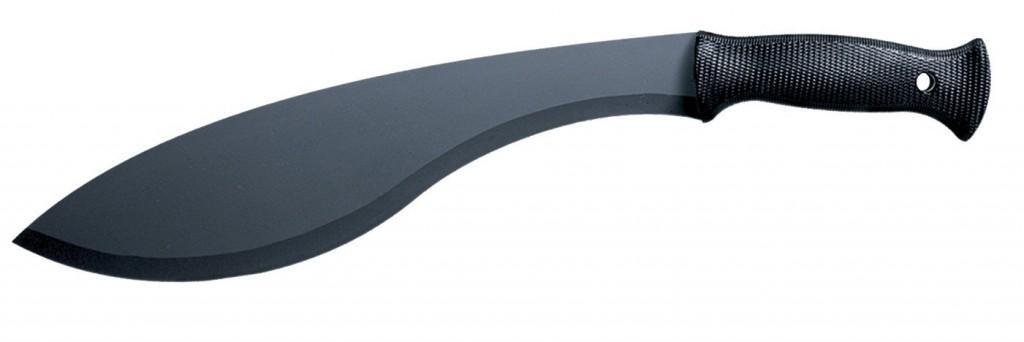facao: (12, 29, 995, 285)
